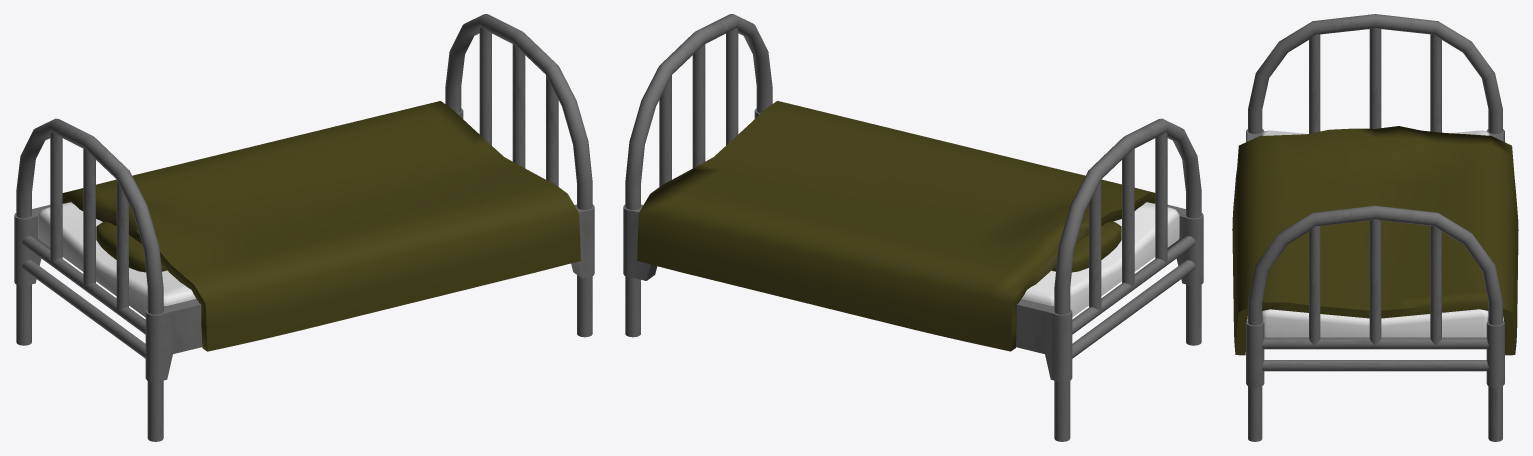
File: Bed.fbx
3 renders of one model, left to right at view 1: azimuth 30°, elevation 25°; view 2: azimuth 150°, elevation 25°; view 3: azimuth 270°, elevation 25°, orthographic. The views are drawn at different scales.
Parts seen in each view (by area): view 1: Cylinder; view 2: Cylinder; view 3: Cylinder.
Boxes of the visible parts, x1,y1,x2,y2 form: Cylinder: (14,14,594,441); Cylinder: (623,14,1203,441); Cylinder: (1232,14,1518,441).
Size of the model in its own units: 194 by 106 by 118.
